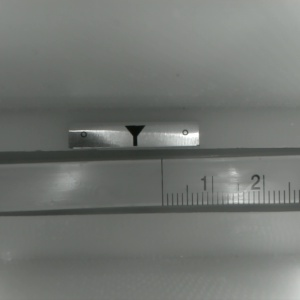1: (200, 176, 206, 191)
2: (250, 175, 260, 190)
finger: (124, 126, 145, 144)
